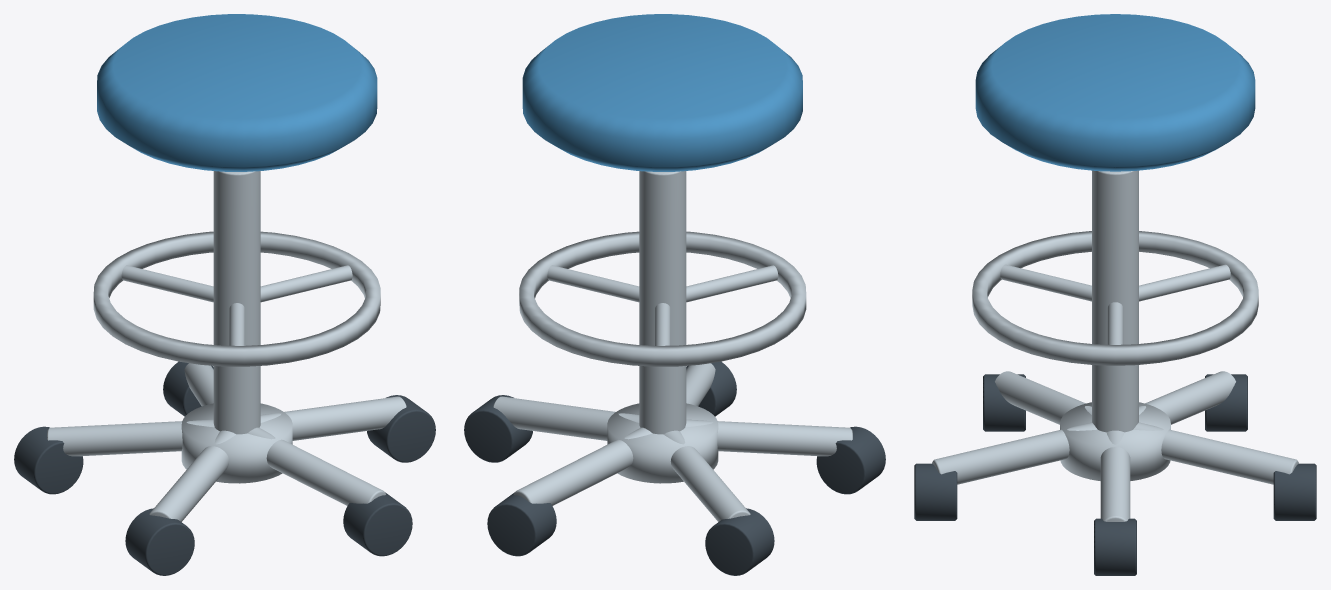
File: drafting_stool.glb
3 views of the same model, side by side, from view 1: azimuth 30°, elevation 25°; view 2: azimuth 150°, elevation 25°; view 3: azimuth 270°, elevation 25° (orthographic).
Visible parts, largest first — view 1: Circular_Seat, Foot_Ring, Gas_Lift_Outer, Five_Spoke_Hub, Spoke_3, Spoke_1, Spoke_0, Caster_Wheel_2, Caster_Wheel_1, Caster_Wheel_3, Spoke_2, Caster_Wheel_0 (+5 smaller); view 2: Circular_Seat, Foot_Ring, Gas_Lift_Outer, Five_Spoke_Hub, Spoke_2, Spoke_4, Spoke_0, Caster_Wheel_3, Caster_Wheel_4, Caster_Wheel_2, Spoke_3, Caster_Wheel_0 (+5 smaller); view 3: Circular_Seat, Foot_Ring, Gas_Lift_Outer, Five_Spoke_Hub, Spoke_1, Spoke_4, Spoke_0, Caster_Wheel_0, Spoke_2, Spoke_3, Caster_Wheel_1, Caster_Wheel_4 (+5 smaller).
Boxes of the visible parts, bbox=[...] form: Circular_Seat: bbox=[97, 14, 377, 171]; Foot_Ring: bbox=[93, 231, 380, 366]; Gas_Lift_Outer: bbox=[213, 171, 260, 434]; Five_Spoke_Hub: bbox=[181, 403, 292, 483]; Spoke_3: bbox=[47, 419, 214, 456]; Spoke_1: bbox=[247, 427, 385, 505]; Spoke_0: bbox=[260, 396, 406, 440]; Caster_Wheel_2: bbox=[125, 508, 194, 575]; Caster_Wheel_1: bbox=[343, 492, 412, 556]; Caster_Wheel_3: bbox=[14, 426, 83, 494]; Spoke_2: bbox=[149, 430, 236, 521]; Caster_Wheel_0: bbox=[367, 395, 435, 462]; Circular_Seat: bbox=[522, 14, 802, 171]; Foot_Ring: bbox=[519, 231, 806, 366]; Gas_Lift_Outer: bbox=[639, 171, 686, 434]; Five_Spoke_Hub: bbox=[607, 403, 718, 483]; Spoke_2: bbox=[685, 419, 852, 456]; Spoke_4: bbox=[514, 427, 652, 505]; Spoke_0: bbox=[493, 396, 639, 440]; Caster_Wheel_3: bbox=[705, 508, 774, 575]; Caster_Wheel_4: bbox=[487, 492, 556, 556]; Caster_Wheel_2: bbox=[816, 426, 885, 494]; Spoke_3: bbox=[663, 430, 750, 521]; Caster_Wheel_0: bbox=[464, 395, 532, 462]; Circular_Seat: bbox=[975, 14, 1255, 171]; Foot_Ring: bbox=[972, 231, 1258, 365]; Gas_Lift_Outer: bbox=[1092, 170, 1138, 432]; Five_Spoke_Hub: bbox=[1060, 402, 1170, 480]; Spoke_1: bbox=[932, 422, 1097, 484]; Spoke_4: bbox=[1133, 422, 1298, 484]; Spoke_0: bbox=[1100, 430, 1130, 521]; Caster_Wheel_0: bbox=[1094, 518, 1136, 575]; Spoke_2: bbox=[995, 371, 1091, 424]; Spoke_3: bbox=[1139, 371, 1235, 424]; Caster_Wheel_1: bbox=[914, 463, 957, 520]; Caster_Wheel_4: bbox=[1273, 463, 1316, 520].
Bounding box in the file's own units: 0.6126 × 0.724 × 0.6176.
